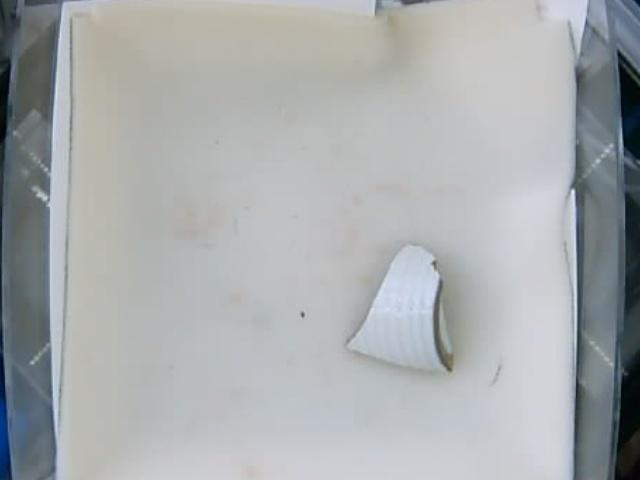China: (344, 247, 455, 374)
